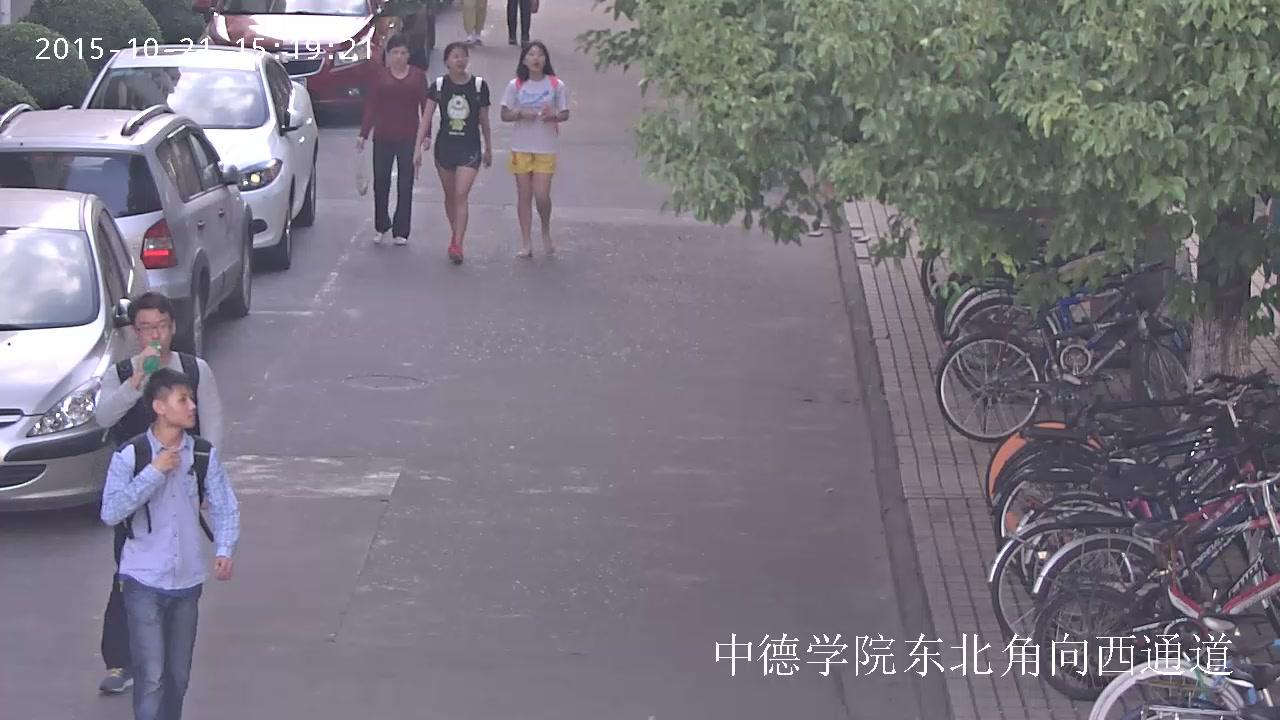face: (134, 309, 171, 351), (166, 384, 195, 428), (526, 45, 545, 71), (448, 48, 468, 72), (390, 46, 407, 66)
